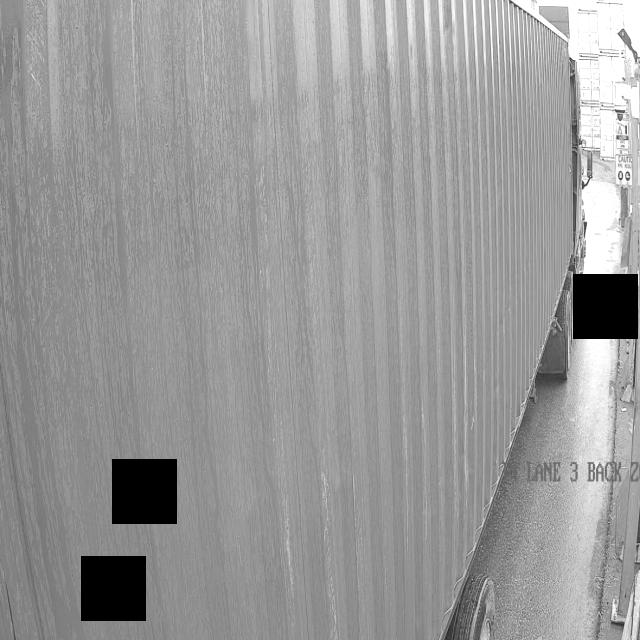truck_with_container: (0, 0, 590, 640)
